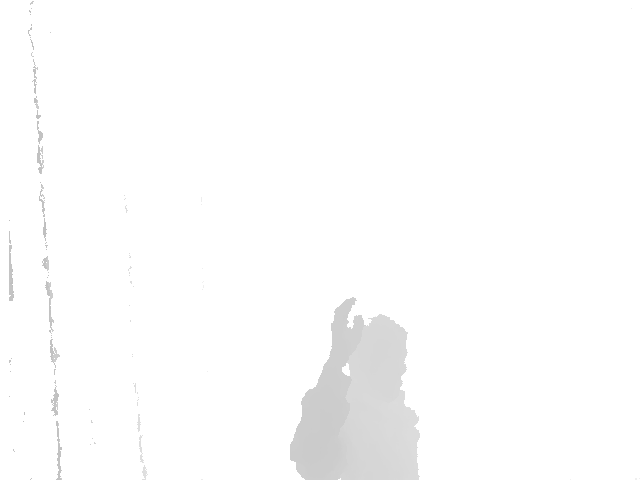hand: (328, 290, 365, 370)
head: (348, 314, 410, 388)
person: (290, 285, 426, 480)
